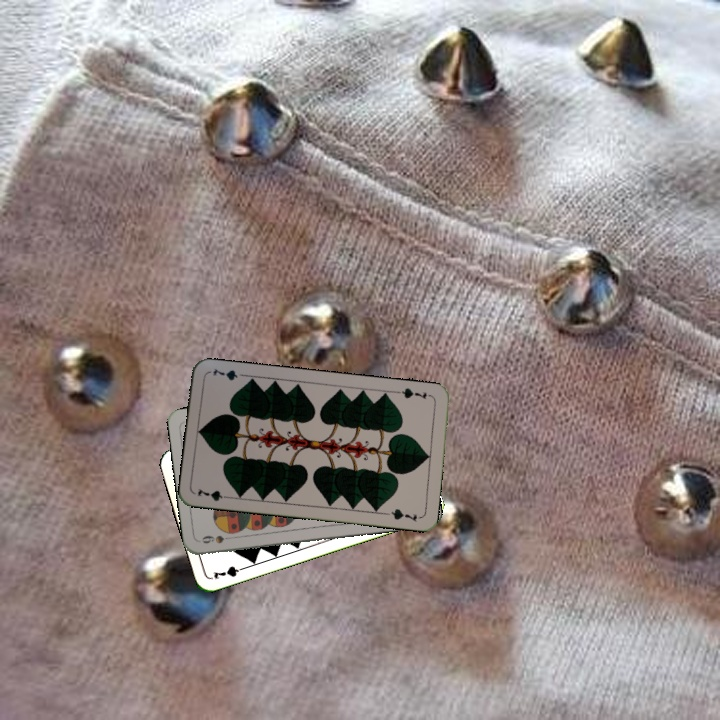G7: (193, 484, 234, 504), (209, 562, 249, 582), (394, 384, 434, 402)
S9: (197, 531, 238, 546)
